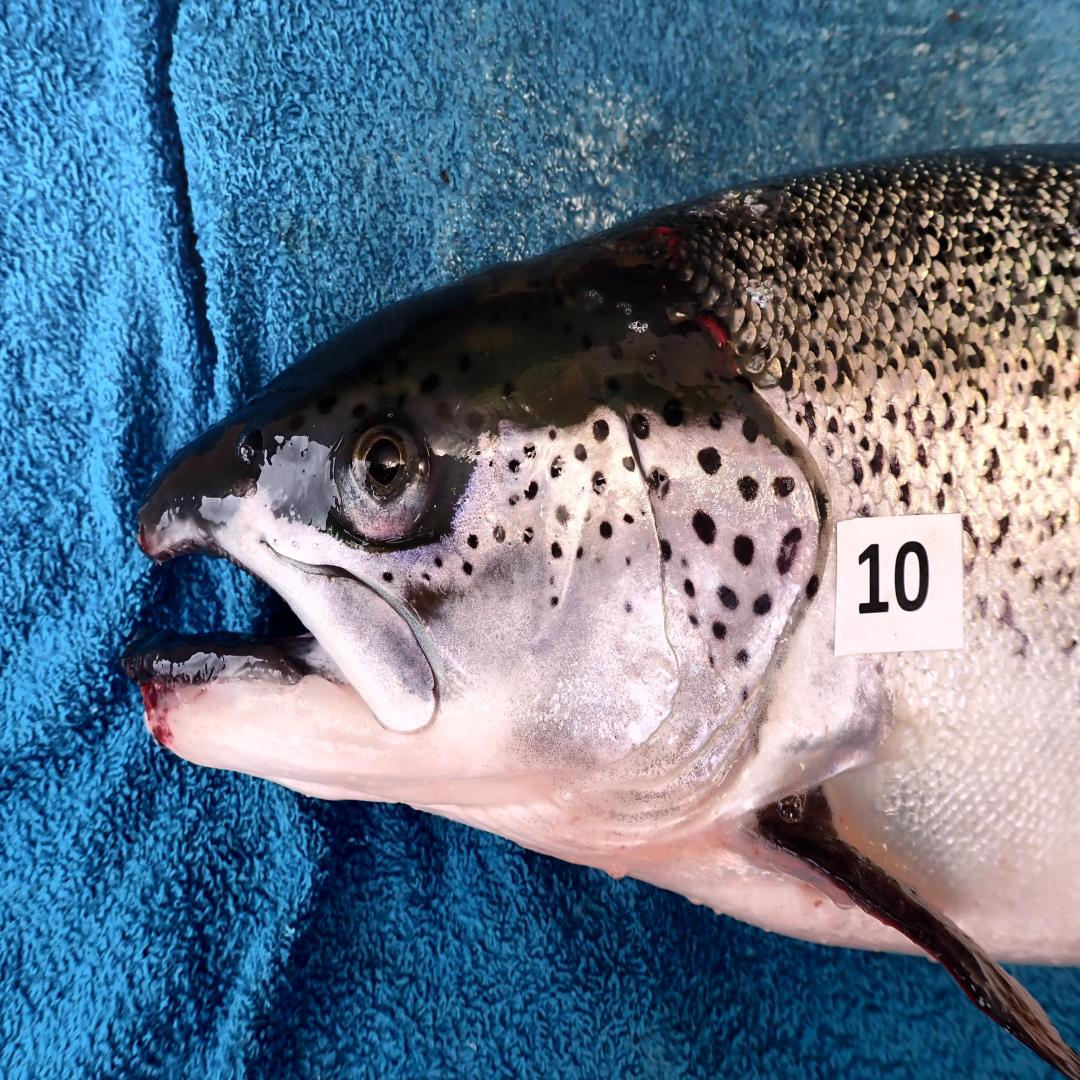spot: (776, 526, 802, 574), (692, 509, 717, 546), (648, 467, 671, 498), (734, 534, 755, 565), (698, 447, 721, 475), (738, 475, 759, 501), (772, 475, 795, 498), (717, 585, 738, 610), (631, 413, 650, 439), (753, 593, 772, 616), (742, 419, 759, 442), (593, 419, 610, 442), (816, 490, 827, 523), (555, 503, 570, 526), (734, 647, 749, 669), (660, 537, 673, 562), (806, 574, 819, 598), (593, 472, 605, 495), (551, 456, 563, 478), (525, 481, 538, 501), (709, 411, 721, 430), (599, 520, 612, 537), (738, 686, 751, 703), (622, 456, 635, 472), (713, 622, 726, 638), (574, 444, 586, 461), (494, 526, 506, 543), (523, 526, 534, 543), (683, 579, 694, 596), (523, 444, 536, 458), (466, 534, 479, 548), (508, 492, 521, 506), (688, 613, 700, 627), (508, 458, 519, 472), (380, 571, 394, 582), (551, 543, 561, 557), (420, 571, 430, 585), (707, 652, 715, 669), (462, 562, 472, 574), (576, 546, 584, 560), (624, 602, 633, 613), (681, 557, 690, 568), (551, 596, 559, 608), (435, 557, 443, 568), (548, 430, 557, 439), (624, 515, 633, 523), (624, 557, 631, 565), (549, 576, 555, 585), (488, 459, 494, 467), (639, 510, 645, 517)
